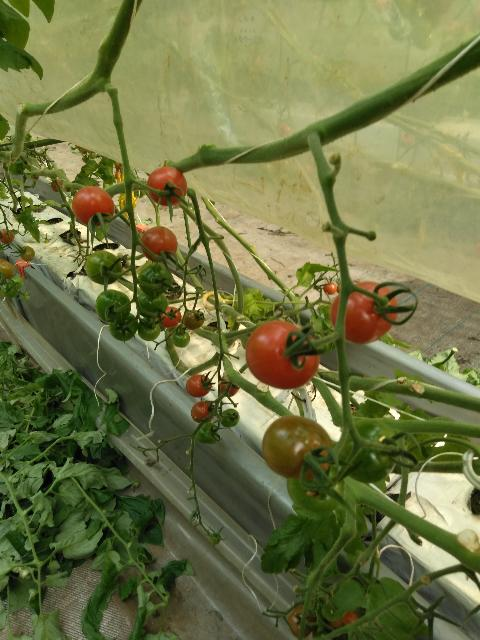l_fully_ripened: (245, 321, 321, 391), (330, 281, 399, 344), (72, 186, 115, 227), (147, 166, 188, 206), (140, 226, 178, 262), (186, 374, 212, 398), (156, 307, 181, 327), (220, 376, 240, 396), (0, 229, 15, 244), (323, 282, 337, 295)
l_green: (339, 419, 402, 483), (287, 465, 345, 515), (85, 250, 123, 284), (95, 289, 131, 323), (138, 263, 173, 297), (136, 291, 168, 319), (109, 313, 139, 341), (138, 317, 161, 341), (196, 422, 219, 444), (220, 408, 239, 428), (172, 331, 190, 348), (0, 283, 19, 298), (8, 275, 23, 290), (21, 293, 30, 301)
l_half_ripened: (262, 415, 334, 481), (288, 606, 315, 639), (191, 400, 216, 423), (183, 310, 205, 330), (0, 259, 15, 279), (20, 246, 36, 261)
